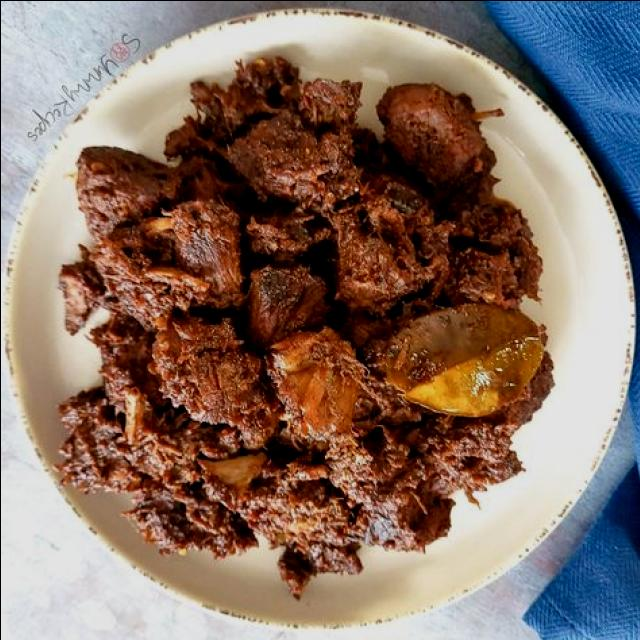rendang: (58, 53, 554, 597)
